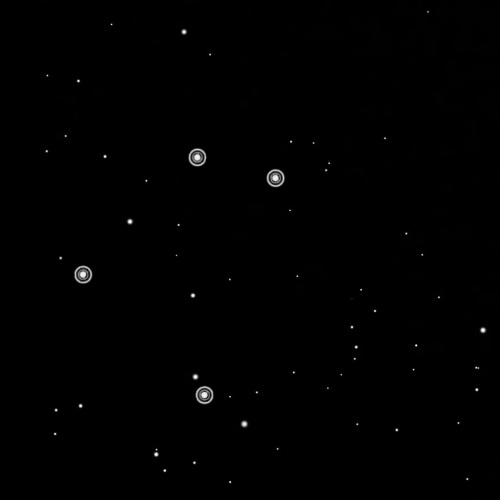coma_berenices: (70, 140, 290, 410)
